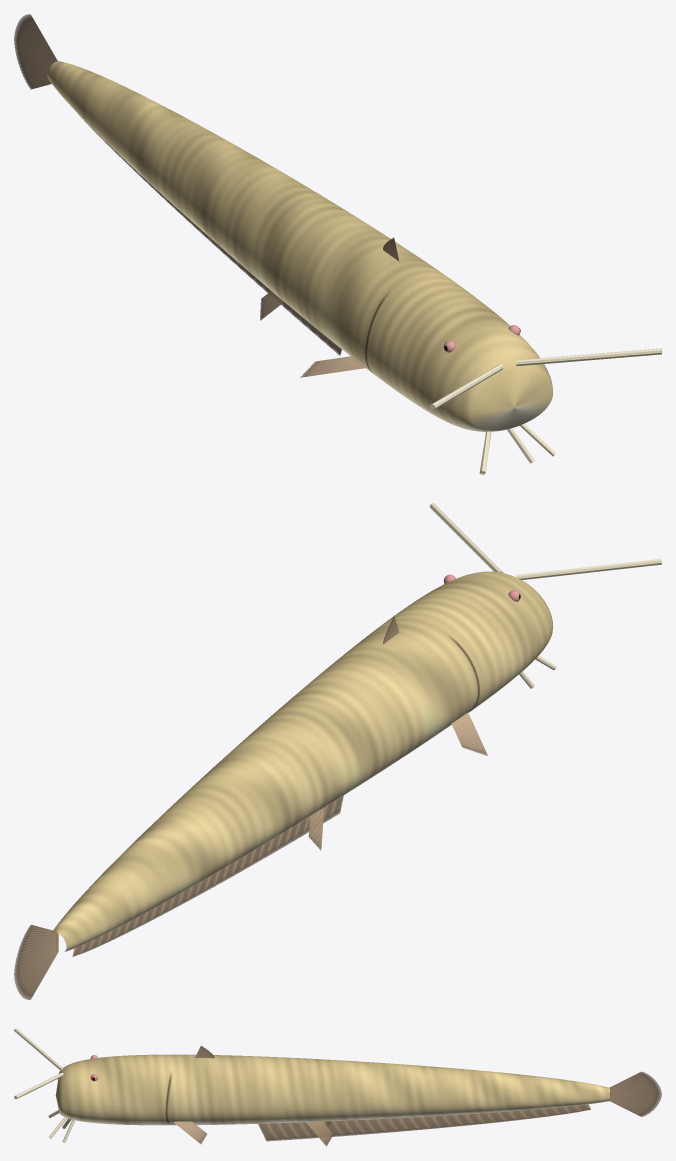
Rendered from som_trophy.glb.
The picture shows the model from 3 angles, top to bottom: view 1: azimuth 30°, elevation 25°; view 2: azimuth 150°, elevation 25°; view 3: azimuth 270°, elevation 25°; orthographic projection. The views are drawn at different scales.
Parts seen in each view (by area): view 1: body, fin_tail, fin_anal0, barbel0, fin_pect_R; view 2: body, fin_anal0, fin_tail, barbel1, fin_pect_R; view 3: body, fin_anal0, fin_tail, fin_pect_L, fin_pelv_L, barbel1, barbel0.
Part boxes in pixels (<box>): body: <box>47,61,552,431</box>; fin_tail: <box>14,14,57,89</box>; fin_anal0: <box>78,114,341,355</box>; barbel0: <box>516,348,661,366</box>; fin_pect_R: <box>300,356,366,377</box>; body: <box>53,571,552,951</box>; fin_anal0: <box>72,795,343,956</box>; fin_tail: <box>14,924,58,999</box>; barbel1: <box>516,559,661,579</box>; fin_pect_R: <box>451,712,487,755</box>; body: <box>55,1054,609,1125</box>; fin_anal0: <box>258,1104,590,1141</box>; fin_tail: <box>609,1071,661,1116</box>; fin_pect_L: <box>173,1121,207,1144</box>; fin_pelv_L: <box>306,1121,333,1146</box>; barbel1: <box>14,1028,63,1070</box>; barbel0: <box>14,1072,63,1099</box>.
Bounding box in the file's own units: 0.5012 × 0.3271 × 2.
Materials: 6 (3 with a texture image).
